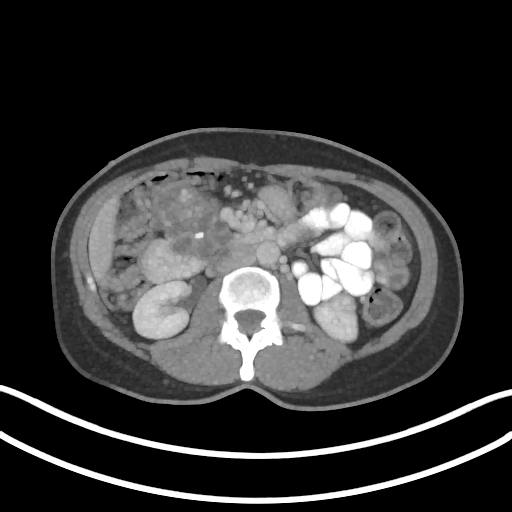Lesion: (330, 294, 357, 315)
